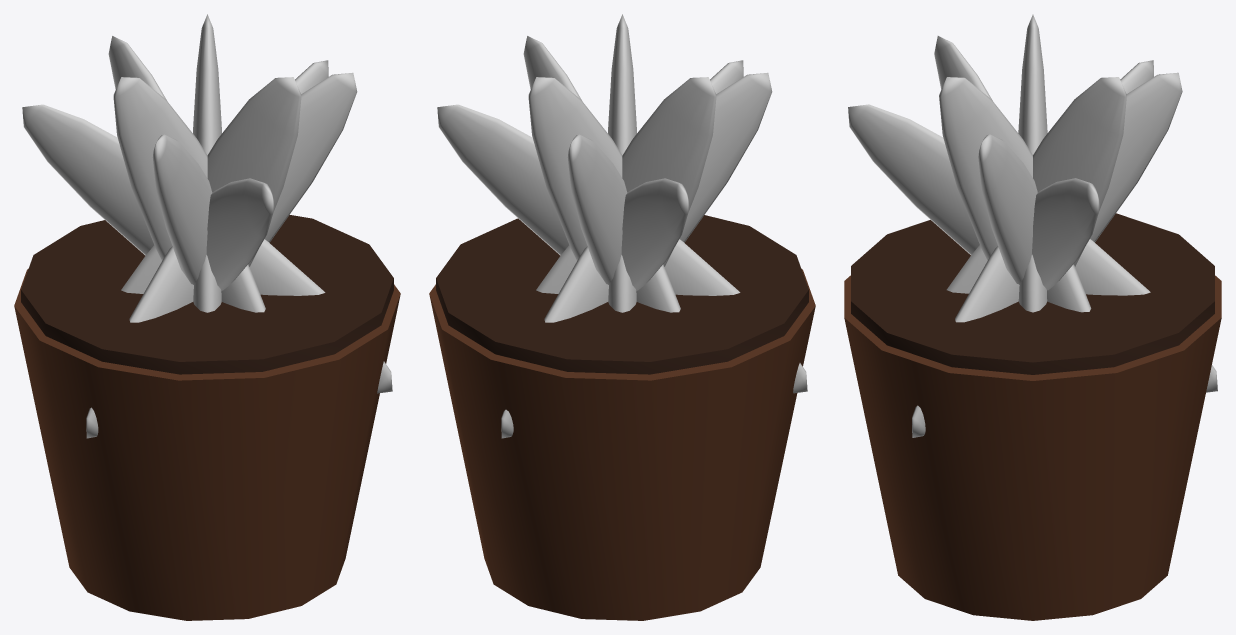
File: decor_plant.fbx
The picture shows the model from 3 angles, left to right: view 1: azimuth 30°, elevation 25°; view 2: azimuth 150°, elevation 25°; view 3: azimuth 270°, elevation 25°; orthographic projection.
Parts seen in each view (by area): view 1: decor_plant; view 2: decor_plant; view 3: decor_plant.
Part boxes in pixels (x1,y1,x2,y2): decor_plant: (14, 14, 400, 620); decor_plant: (429, 14, 815, 620); decor_plant: (844, 14, 1221, 620).
Size of the model in its own units: 0.56 by 0.8081 by 0.546.
